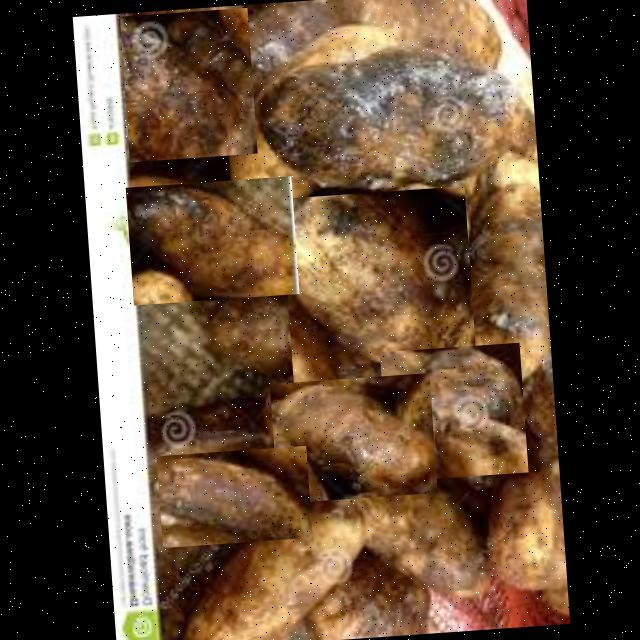Diseased-fungal potato: (256, 39, 530, 196), (279, 186, 476, 384), (124, 176, 298, 305), (334, 468, 494, 608), (268, 372, 436, 503), (118, 7, 256, 162), (378, 342, 527, 482), (155, 446, 311, 548)
